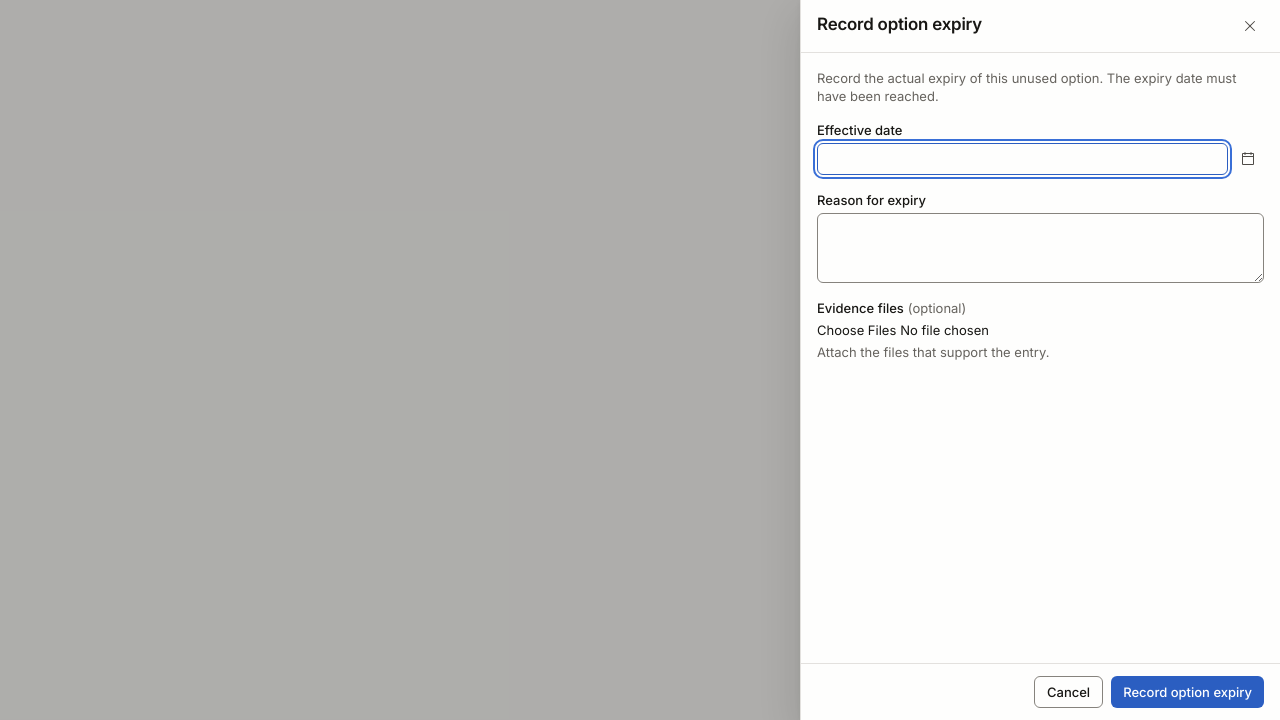
Test case: keeps queued expiry visible through SUCCEEDED without offering a duplicate
Type "2026-09-12" into the field labelled "Effective date" at (1022, 159), box [817,143,1228,175]
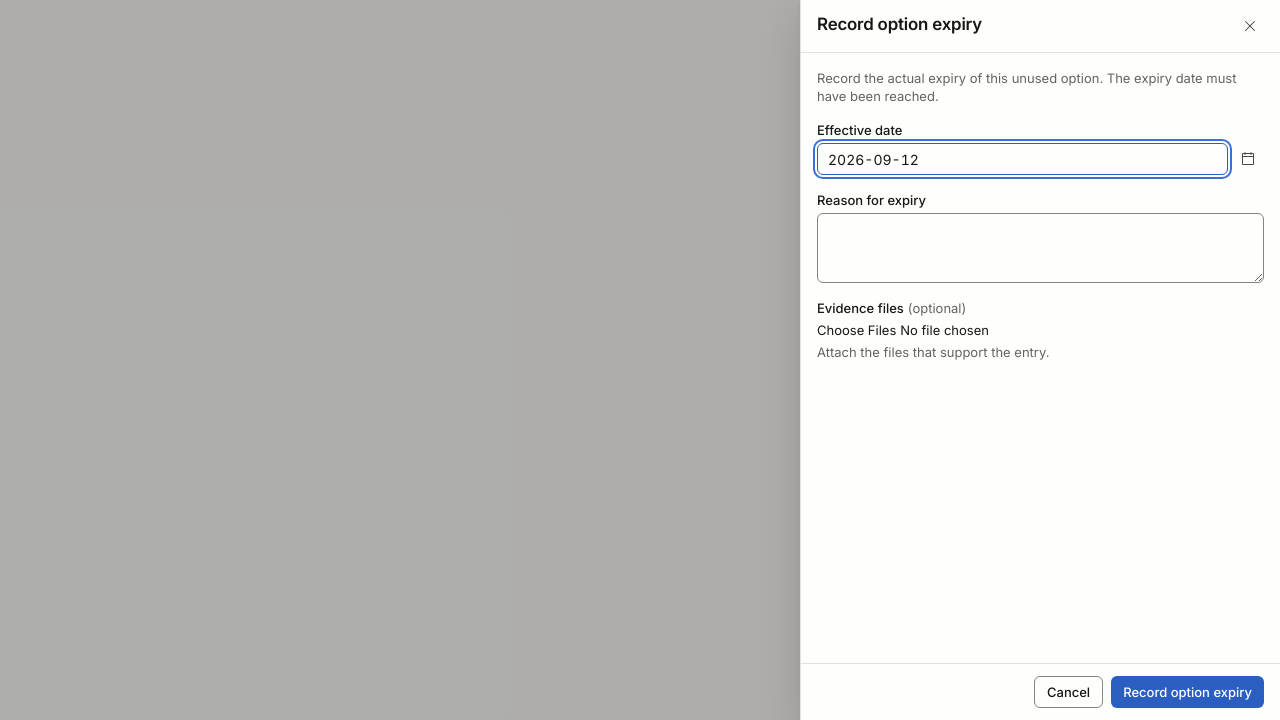
Type "Unused option expired." into the text box labelled "Reason for expiry" at (1040, 248), box [817,213,1264,283]
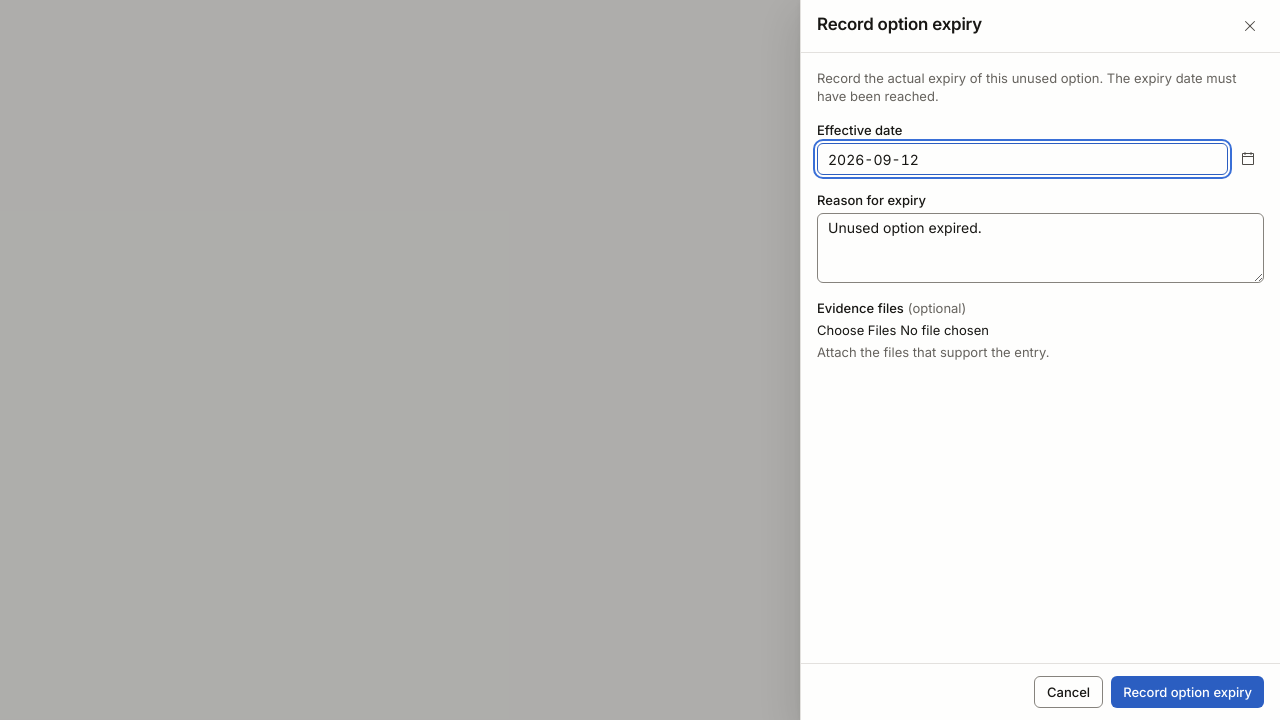
Click the button "Record option expiry" at (1188, 692), box [1111,676,1264,708]
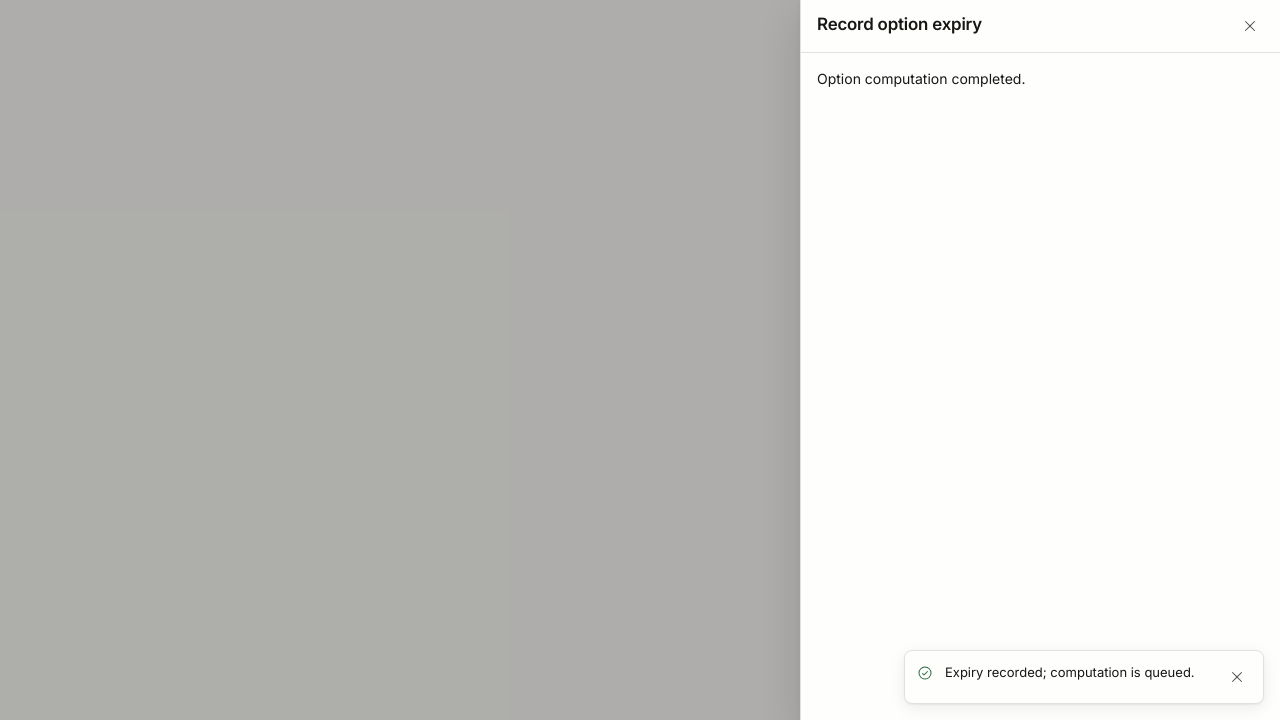
Expected: the text "Option computation completed." is shown, [817,70,1025,87]
